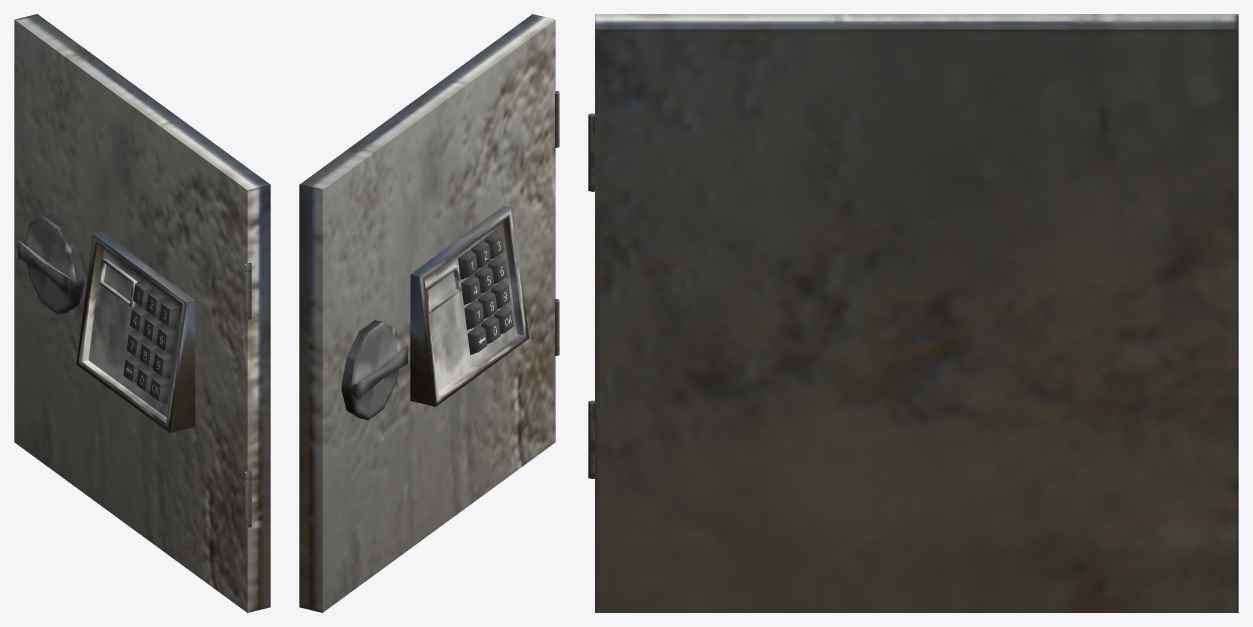
Rendered from 금고 문 애니메이션.FBX.
3 renders of one model, left to right at view 1: azimuth 30°, elevation 25°; view 2: azimuth 150°, elevation 25°; view 3: azimuth 270°, elevation 25°, orthographic. The views are drawn at different scales.
Parts seen in each view (by area): view 1: 2층 마네킹방 - 금고 문; view 2: 2층 마네킹방 - 금고 문; view 3: 2층 마네킹방 - 금고 문.
Part boxes in pixels (x1=…): 2층 마네킹방 - 금고 문: x1=14, y1=14, x2=270, y2=612; 2층 마네킹방 - 금고 문: x1=299, y1=14, x2=559, y2=612; 2층 마네킹방 - 금고 문: x1=588, y1=14, x2=1238, y2=612.
Bounding box in the file's own units: 0.2241 × 1.86 × 1.88.
Materials: 1 (1 with a texture image).
